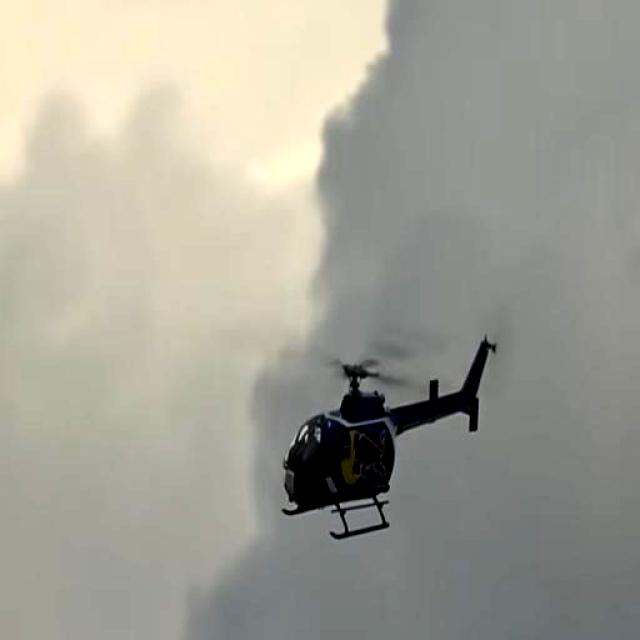drone: (255, 318, 510, 592)
